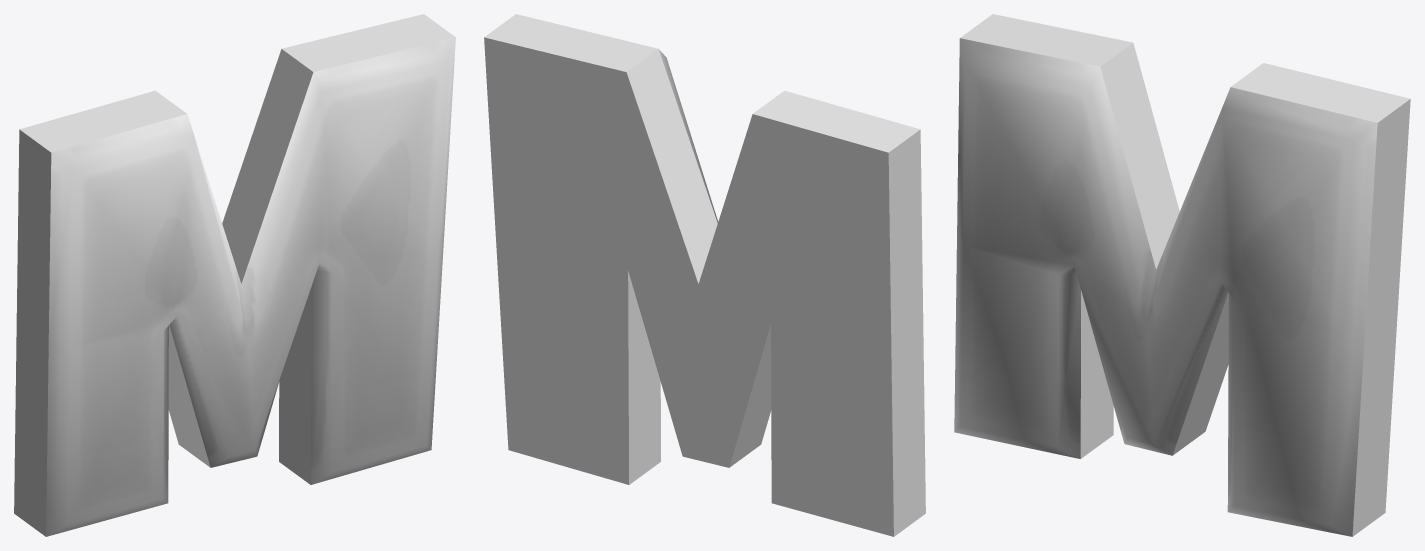
Rendered from LettersStylized01_M.FBX.
The picture shows the model from 3 angles, left to right: view 1: azimuth 30°, elevation 25°; view 2: azimuth 150°, elevation 25°; view 3: azimuth 330°, elevation 25°; orthographic projection. The views are drawn at different scales.
Visible parts, largest first — view 1: LettersStylized01_M; view 2: LettersStylized01_M; view 3: LettersStylized01_M.
Boxes of the visible parts, bbox=[...] form: LettersStylized01_M: bbox=[14, 14, 455, 536]; LettersStylized01_M: bbox=[484, 14, 925, 536]; LettersStylized01_M: bbox=[954, 14, 1410, 536].
Size of what is drawn, in the model's own units: 0.5033 by 0.4838 by 0.085.
